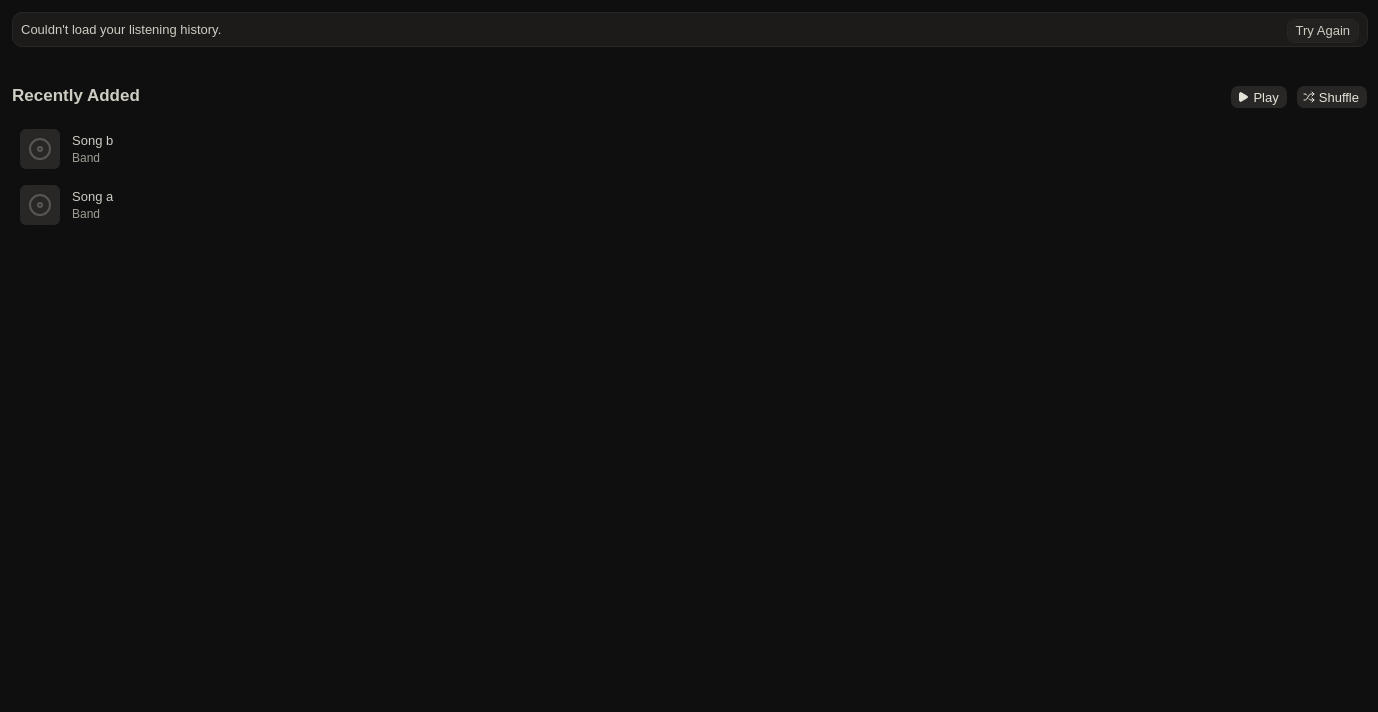
Test case: HomePage › offers to try again when the listening history can't be loaded
Click the button "Try Again": (1323, 31) [1287,19,1359,43]
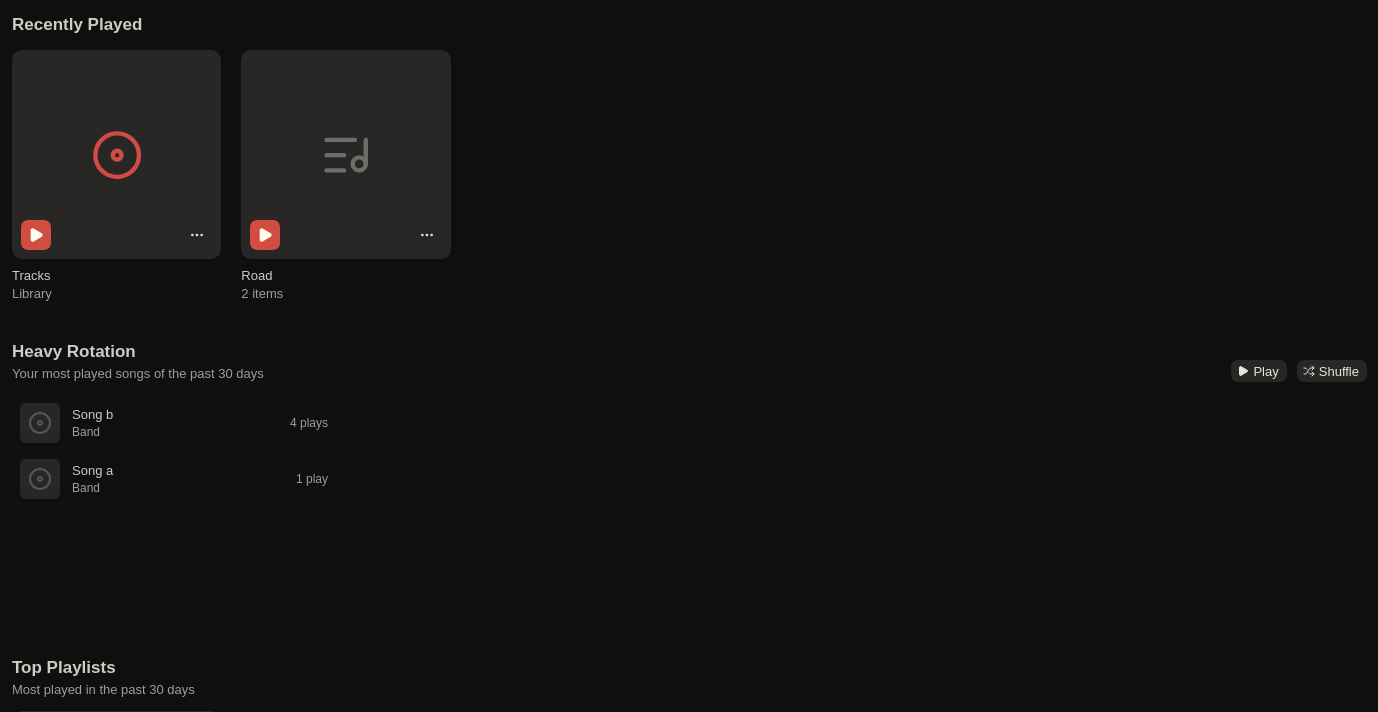
Expected: the heading "Heavy Rotation" is shown, [12,342,136,361]
